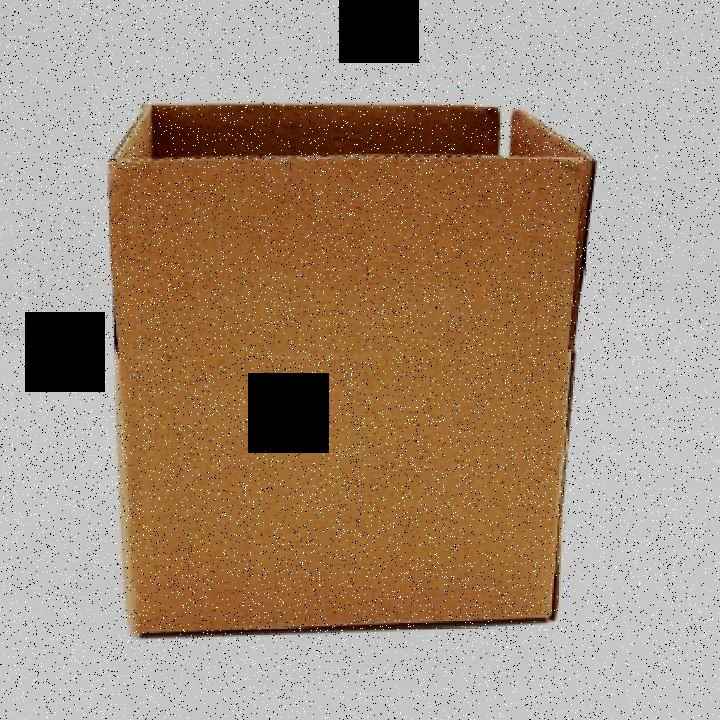box: (94, 81, 602, 648)
